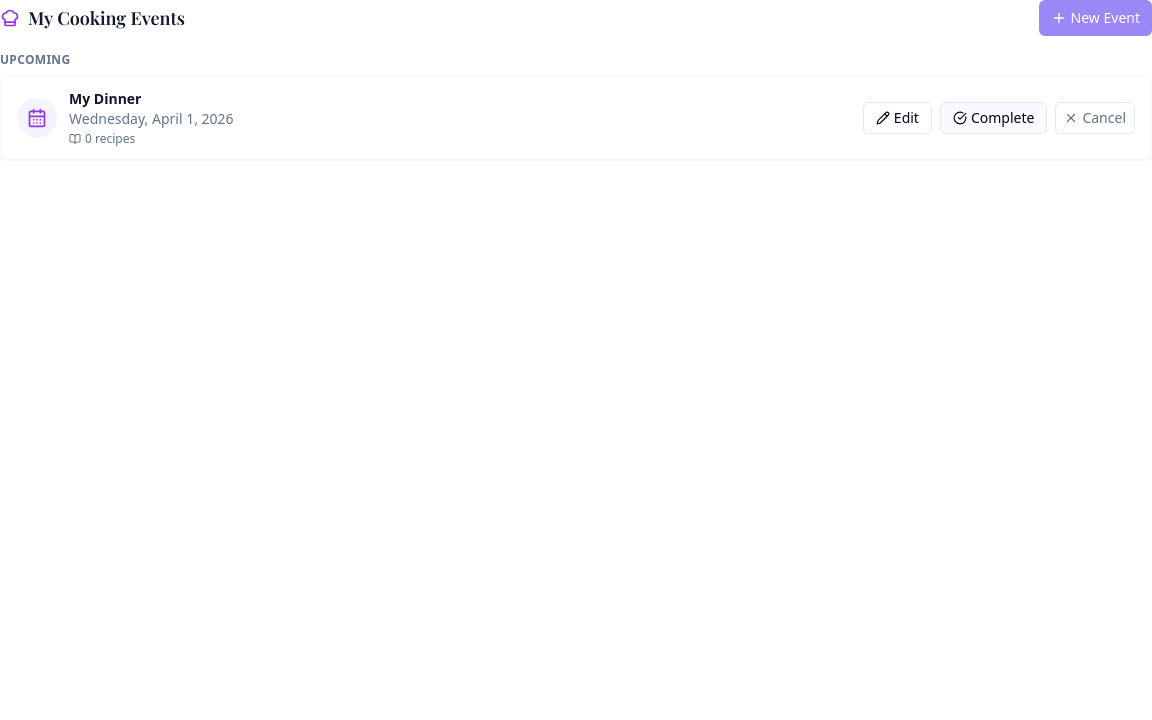
Test: PersonalEventsList › opens delete confirmation when trash icon is clicked
Click the button "Cancel" at x=1095, y=118, box [1055, 102, 1135, 134]
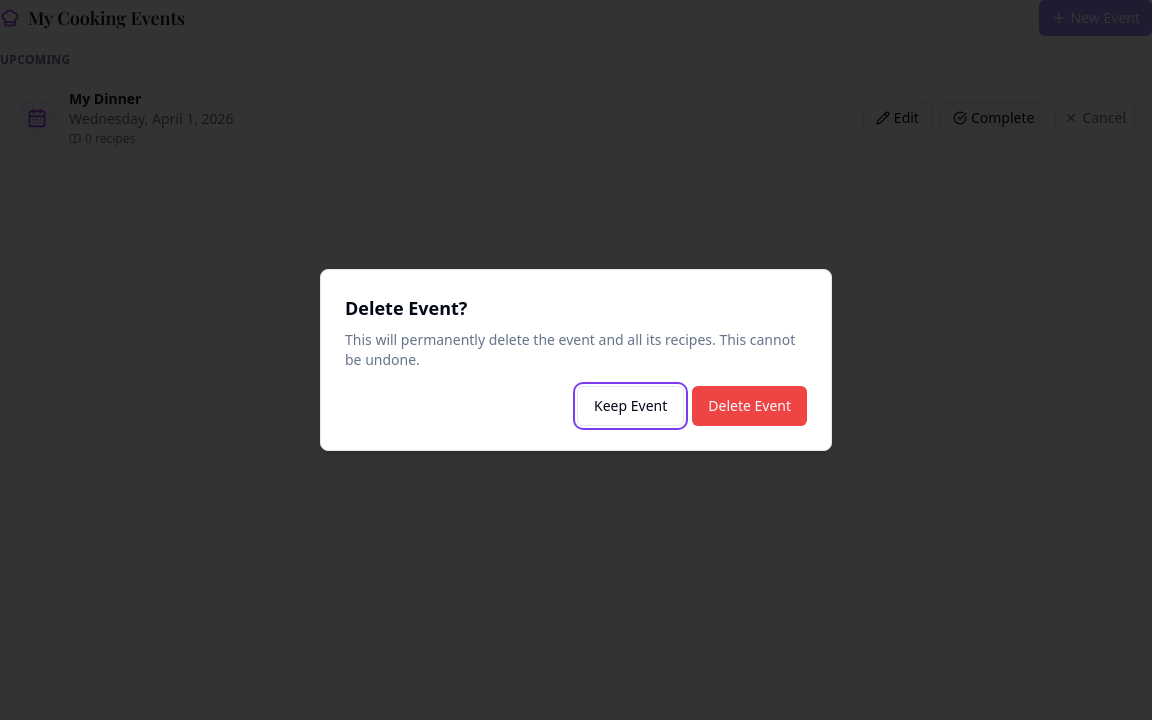
Result: the heading "Delete Event?" is shown at [345, 296, 467, 320]
